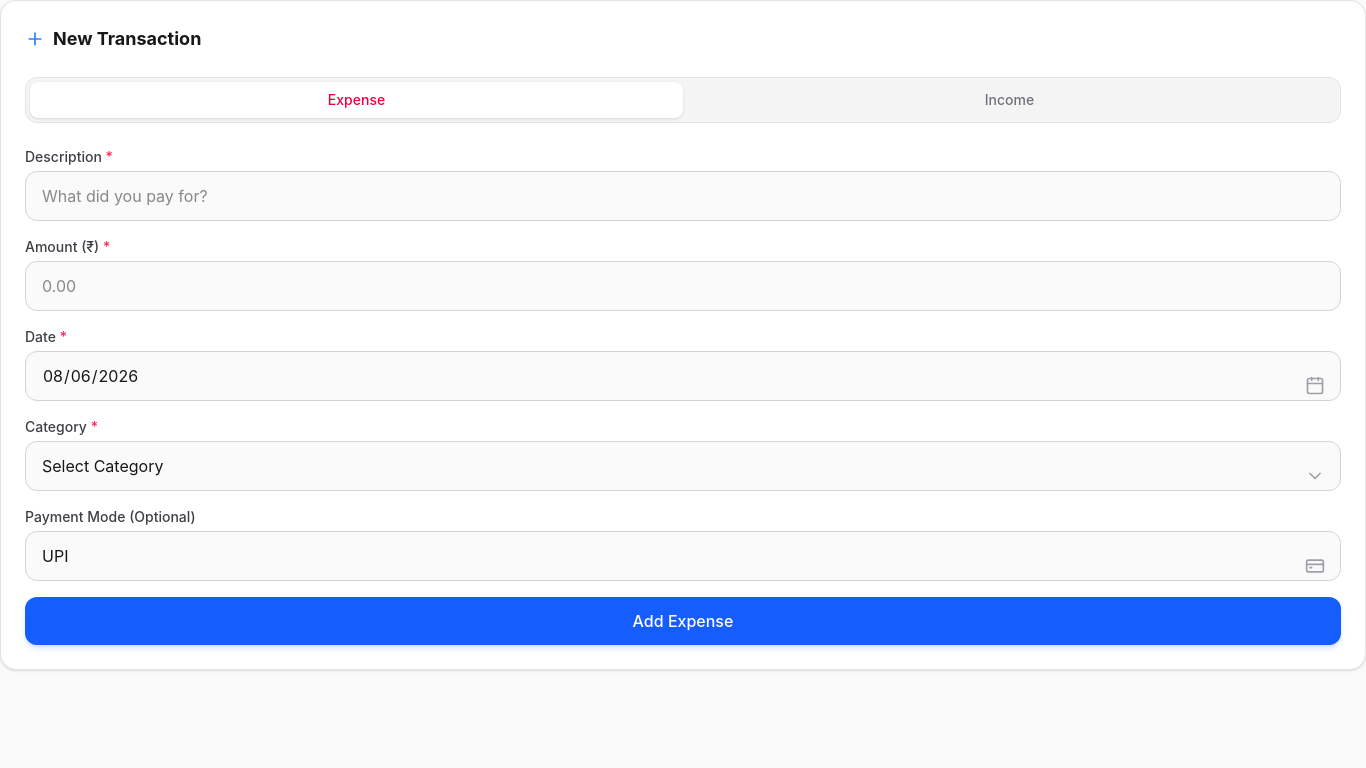
it: TransactionForm Component › switches to Income and changes default payment mode
The width and height of the screenshot is (1366, 768).
Click the button "Income": x=1010, y=100 [683,82,1336,118]
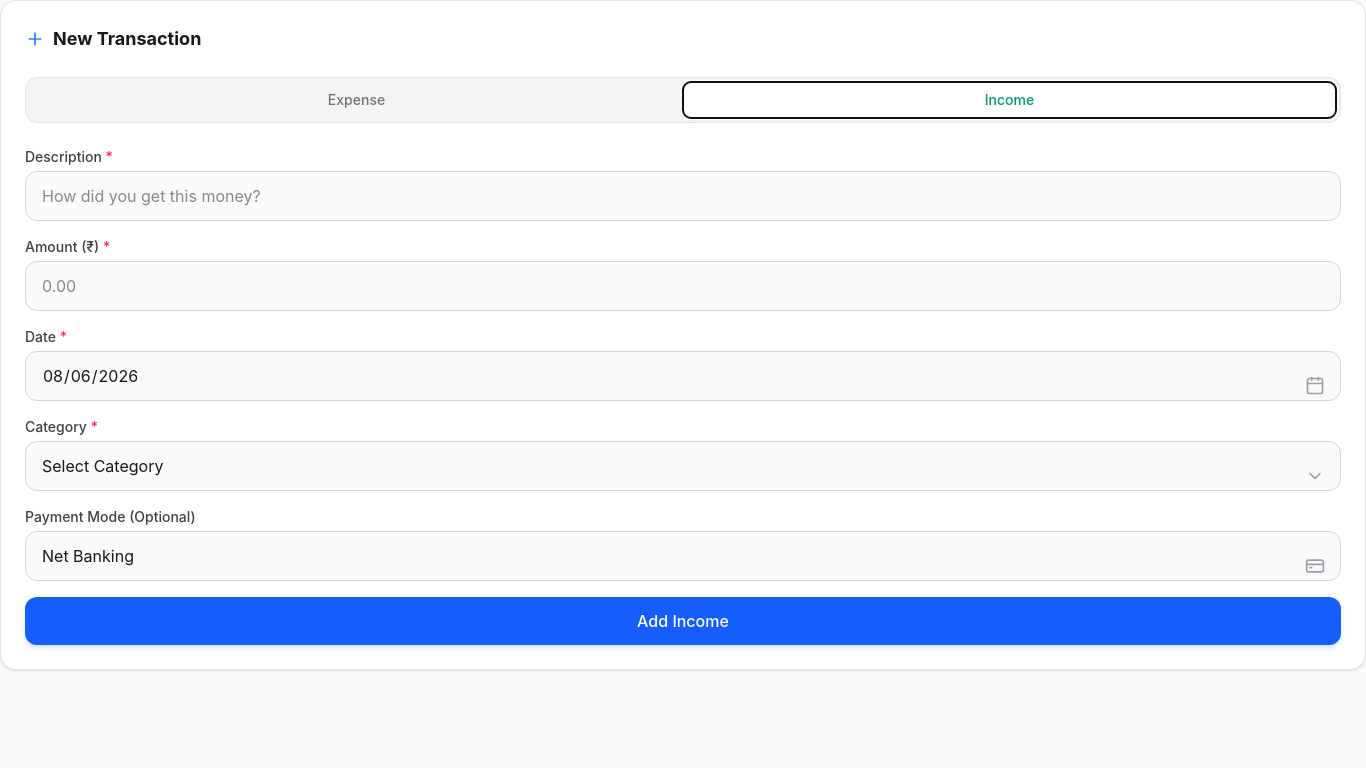
Result: the dropdown labelled "Payment Mode (Optional)" shows "Net Banking" at [25,531,1341,581]
